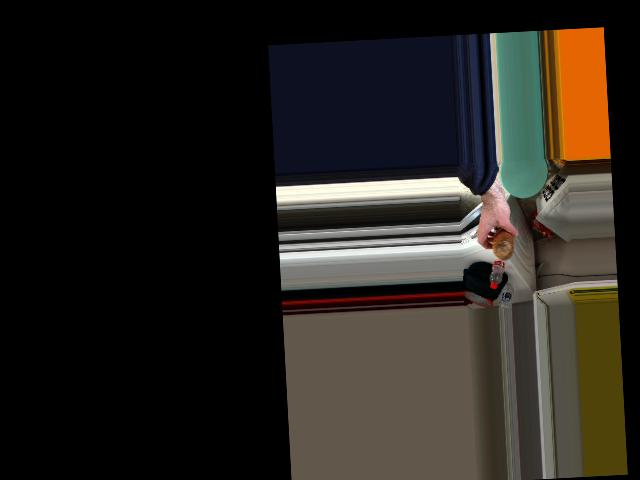sweet_potato: (486, 222, 517, 260)
